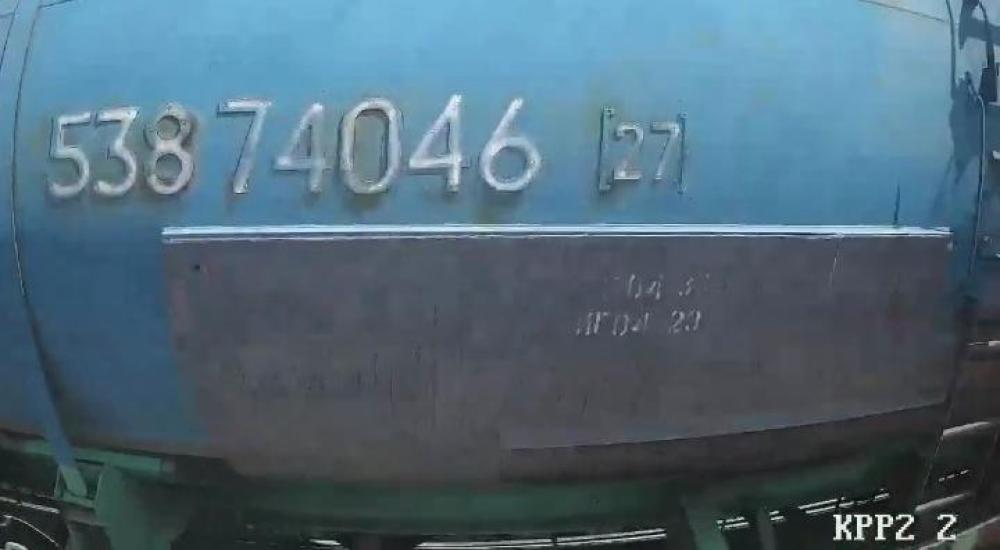Wagon-number: (44, 89, 548, 207)
